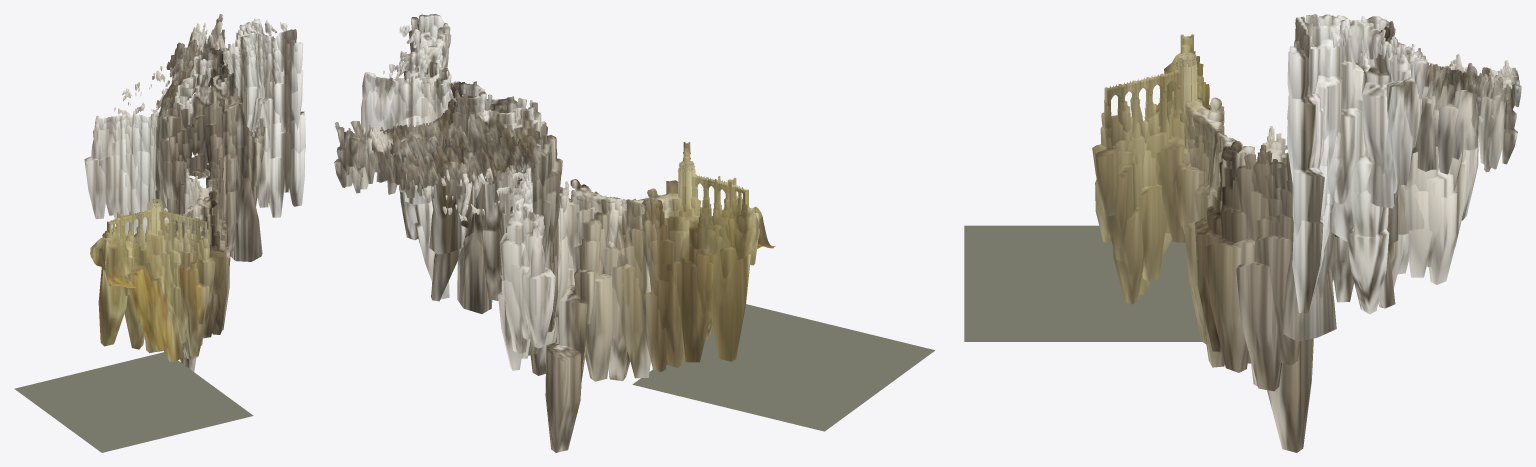
Rendered from tile_1_4.glb.
3 views of the same model, side by side, from view 1: azimuth 30°, elevation 25°; view 2: azimuth 150°, elevation 25°; view 3: azimuth 270°, elevation 25° (orthographic). The views are drawn at different scales.
Visible parts, largest first — view 1: mesh[3].022, mesh[1].021, mesh[4].016, mesh[1].045, mesh[2].029, mesh[0].077, mesh[1].027, mesh[0].063, mesh[2].033, mesh[3].020; view 2: mesh[3].022, mesh[1].021, mesh[4].016, mesh[1].045, mesh[0].077, mesh[2].029, mesh[0].063, mesh[3].020; view 3: mesh[3].022, mesh[1].021, mesh[4].016, mesh[1].045, mesh[2].029, mesh[3].020, mesh[0].063, mesh[0].059.
Part boxes in pixels (<box>): mesh[3].022: <box>84,14,305,371</box>; mesh[1].021: <box>14,352,253,452</box>; mesh[4].016: <box>98,219,226,361</box>; mesh[1].045: <box>182,201,227,359</box>; mesh[2].029: <box>107,209,208,247</box>; mesh[0].077: <box>90,237,170,289</box>; mesh[1].027: <box>188,80,233,124</box>; mesh[0].063: <box>175,190,217,236</box>; mesh[2].033: <box>189,154,209,178</box>; mesh[3].020: <box>148,198,162,234</box>; mesh[3].022: <box>334,14,587,452</box>; mesh[1].021: <box>632,304,934,431</box>; mesh[4].016: <box>618,159,759,378</box>; mesh[1].045: <box>567,194,634,381</box>; mesh[0].077: <box>668,206,775,261</box>; mesh[2].029: <box>683,142,748,213</box>; mesh[0].063: <box>570,179,644,213</box>; mesh[3].020: <box>677,160,695,210</box>; mesh[3].022: <box>1232,14,1521,452</box>; mesh[1].021: <box>964,225,1201,341</box>; mesh[4].016: <box>1092,51,1227,343</box>; mesh[1].045: <box>1194,129,1250,372</box>; mesh[2].029: <box>1103,34,1194,146</box>; mesh[3].020: <box>1176,52,1198,108</box>; mesh[0].063: <box>1206,124,1254,176</box>; mesh[0].059: <box>1185,97,1224,136</box>.
Size of the model in its own units: 2107 by 2070 by 2077.
Materials: 2 (1 with a texture image).
